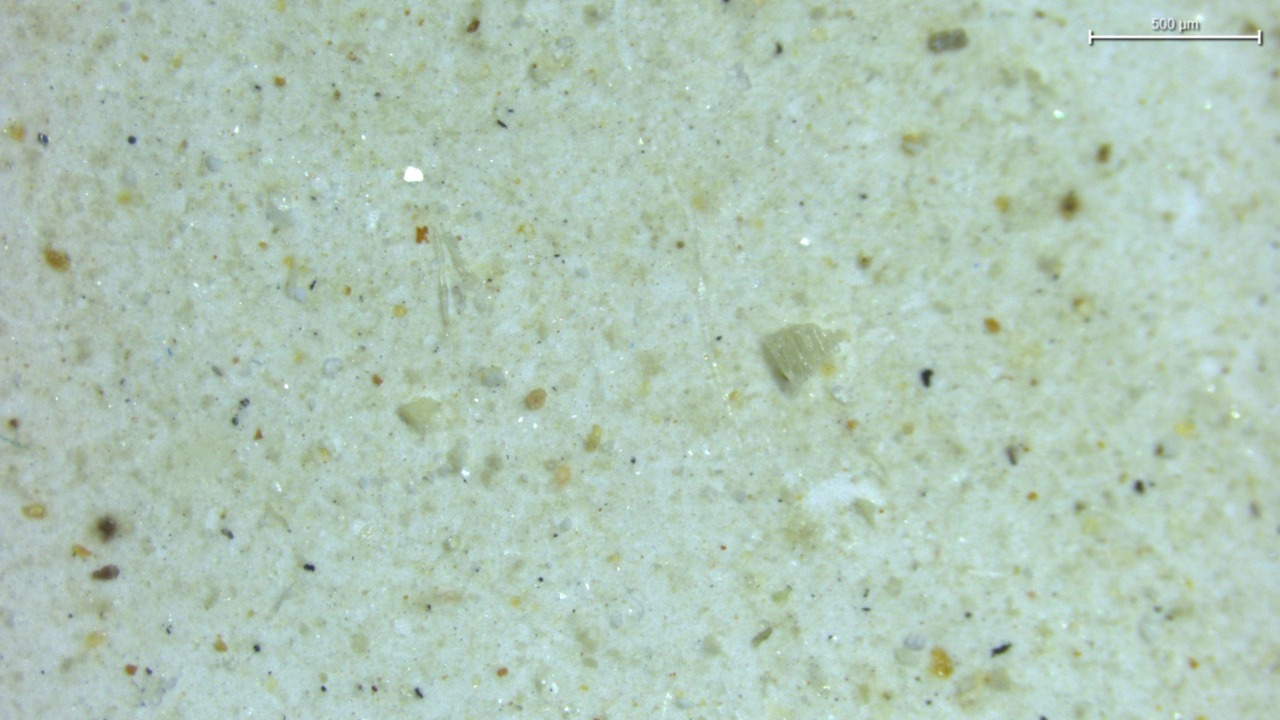microplastic_fragment: (761, 324, 842, 383), (398, 398, 440, 430), (478, 366, 506, 388), (323, 357, 343, 377)
